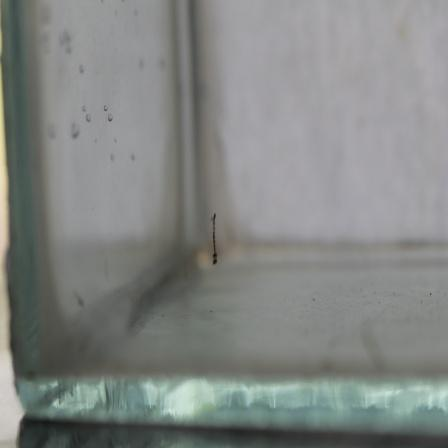Jentik-Nyamuk: (207, 209, 223, 269)
